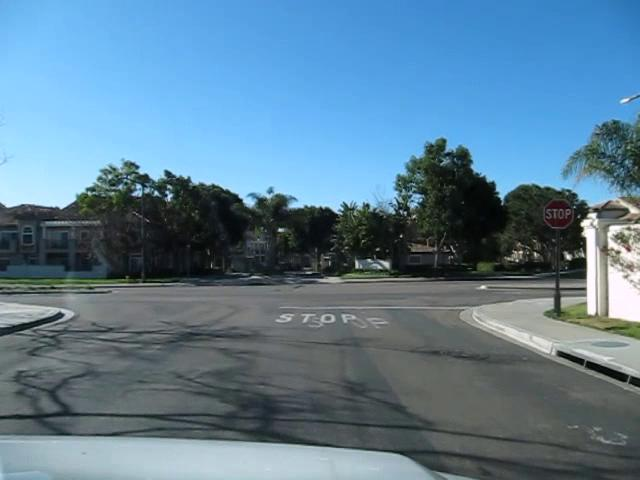stop: (542, 197, 575, 229)
